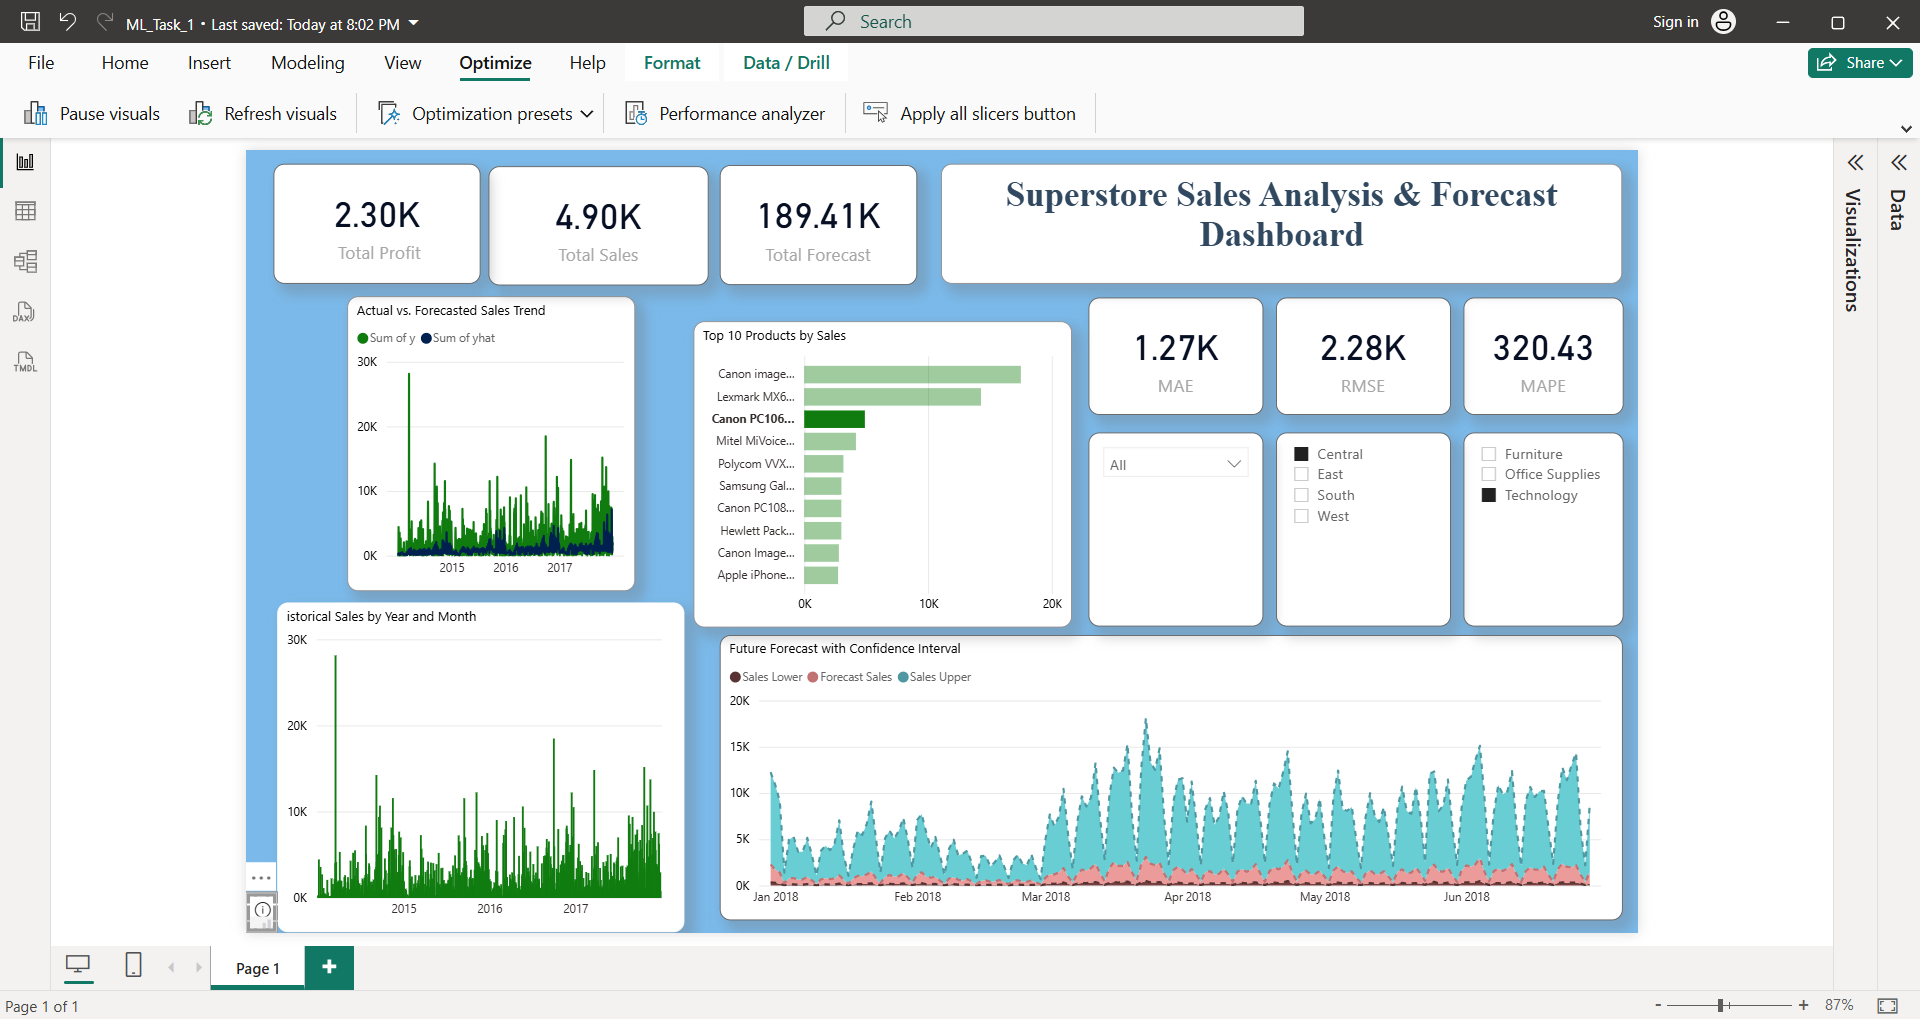

The page's visual inventory and layout, read from the dashboard file:
{"tool":"powerbi","page":{"name":"Page 1","canvas":[1280,720],"ordinal":0},"visuals":[{"type":"card","fields":{"Values":["Sum(forecast_metrics.Value)"]},"box":[774.5,135.1,160.6,108.1],"z":0},{"type":"card","fields":{"Values":["Sum(forecast_metrics.Value)"]},"box":[1119.7,135.1,147.1,108.1],"z":1000},{"type":"card","fields":{"Values":["Sum(forecast_metrics.Value)"]},"box":[947.1,135.1,160.6,108.1],"z":2000},{"type":"lineChart","title":"Actual vs. Forecasted Sales Trend","fields":{"Category":["historical_and_forecast_sales.ds.Variation.Date Hierarchy.Year"],"Y":["Sum(historical_and_forecast_sales.y)","Sum(historical_and_forecast_sales.yhat)"]},"box":[93,134.9,265.1,270.9],"z":3000},{"type":"clusteredColumnChart","title":"istorical Sales by Year and Month","fields":{"Y":["Sum(historical_daily_sales.y)"],"Category":["historical_daily_sales.ds.Variation.Date Hierarchy.Year"]},"box":[29.1,416.3,374.4,303.5],"z":4000},{"type":"stackedAreaChart","title":"Future Forecast with Confidence Interval","fields":{"Category":["future_forecasted_sales.ds.Variation.Date Hierarchy.Year"],"Y":["Sum(future_forecasted_sales.yhat_lower)","Sum(future_forecasted_sales.yhat)","Sum(future_forecasted_sales.yhat_upper)"]},"box":[436,446.5,830.2,262.8],"z":5000},{"type":"clusteredBarChart","title":"Top 10 Products by Sales","fields":{"Category":["Sample - Superstore.Product Name"],"Y":["Sum(Sample - Superstore.Sales)"]},"box":[411.6,157,347.7,281.4],"z":6000},{"type":"slicer","title":"Category","fields":{"Values":["Sample - Superstore.Category"]},"box":[1119.7,259.7,147.1,178.6],"z":7000},{"type":"slicer","fields":{"Values":["Sample - Superstore.Region"]},"box":[947.1,259.7,160.6,178.6],"z":8000},{"type":"slicer","title":"Select a Time Period","fields":{"Values":["Date.Year","Date.Month"]},"box":[774.5,259.7,160.6,178.6],"z":9000},{"type":"card","fields":{"Values":["Sum(Sample - Superstore.Sales)"]},"box":[223.3,15.1,202.3,109.3],"z":10000},{"type":"card","fields":{"Values":["Sum(Sample - Superstore.Profit)"]},"box":[25.6,12.8,190.7,110.5],"z":11000},{"type":"card","fields":{"Values":["Sum(future_forecasted_sales.yhat)"]},"box":[436,14,181.4,110.5],"z":12000},{"type":"textbox","box":[639.5,12.8,626.7,110.5],"z":13000}]}

Visuals, with their boxes on the page's 1280x720 design canvas (x1, y1, x2, y2). These are canvas units, not pixel positions in the 1920x1019 screenshot, which may show the page scaled, cropped or inside an application window:
card - Sum(forecast_metrics.Value): locate(774, 135, 935, 243)
card - Sum(forecast_metrics.Value): locate(1120, 135, 1267, 243)
card - Sum(forecast_metrics.Value): locate(947, 135, 1108, 243)
"Actual vs. Forecasted Sales Trend" lineChart: locate(93, 135, 358, 406)
"istorical Sales by Year and Month" clusteredColumnChart: locate(29, 416, 404, 720)
"Future Forecast with Confidence Interval" stackedAreaChart: locate(436, 446, 1266, 709)
"Top 10 Products by Sales" clusteredBarChart: locate(412, 157, 759, 438)
"Category" slicer: locate(1120, 260, 1267, 438)
slicer - Sample - Superstore.Region: locate(947, 260, 1108, 438)
"Select a Time Period" slicer: locate(774, 260, 935, 438)
card - Sum(Sample - Superstore.Sales): locate(223, 15, 426, 124)
card - Sum(Sample - Superstore.Profit): locate(26, 13, 216, 123)
card - Sum(future_forecasted_sales.yhat): locate(436, 14, 617, 124)
textbox: locate(640, 13, 1266, 123)
